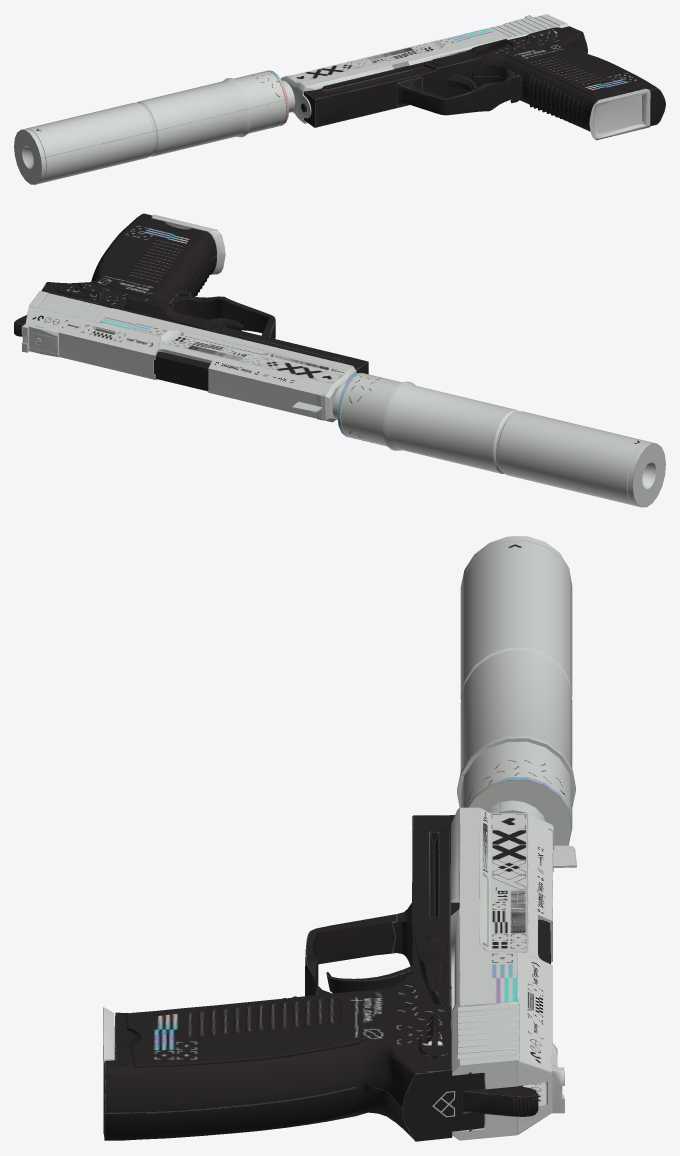
Rendered from csgo_cs2_usp.glb.
3 renders of one model, top to bottom at view 1: azimuth 30°, elevation 25°; view 2: azimuth 150°, elevation 25°; view 3: azimuth 270°, elevation 25°, orthographic. The views are drawn at different scales.
Visible parts, largest first — view 1: usp-s_2; view 2: usp-s_2; view 3: usp-s_2.
Part boxes in pixels (box(x1,y1,x2,y2)): usp-s_2: box(14, 14, 665, 184); usp-s_2: box(14, 213, 665, 507); usp-s_2: box(103, 536, 576, 1141).
Size of the model in its own units: 1.78 by 0.1709 by 0.6837.
1 material, 1 textured.
